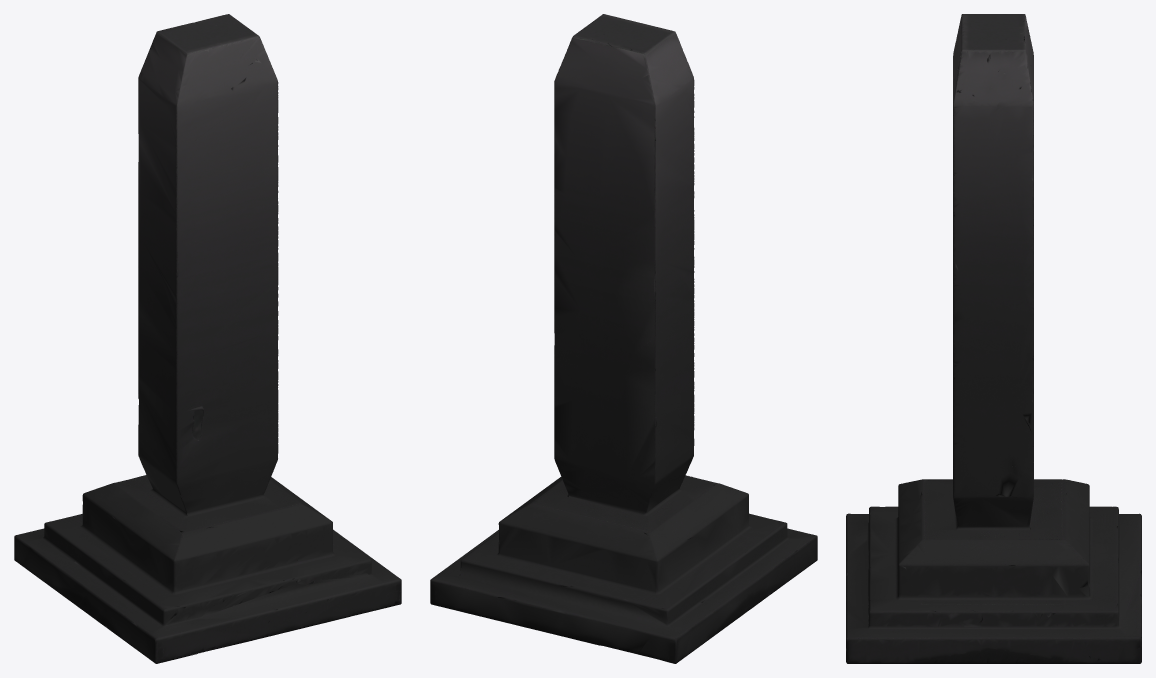
The model's file is ee_pglang.glb.
The picture shows the model from 3 angles, left to right: view 1: azimuth 30°, elevation 25°; view 2: azimuth 150°, elevation 25°; view 3: azimuth 270°, elevation 25°; orthographic projection. The views are drawn at different scales.
Size of the model in its own units: 0.8987 by 1.91 by 0.8988.
Materials: 1 (1 with a texture image).
